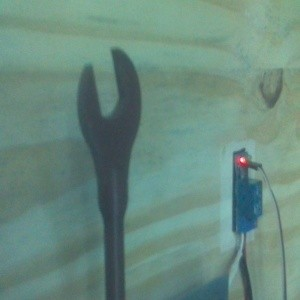spanner: (75, 47, 143, 300)
